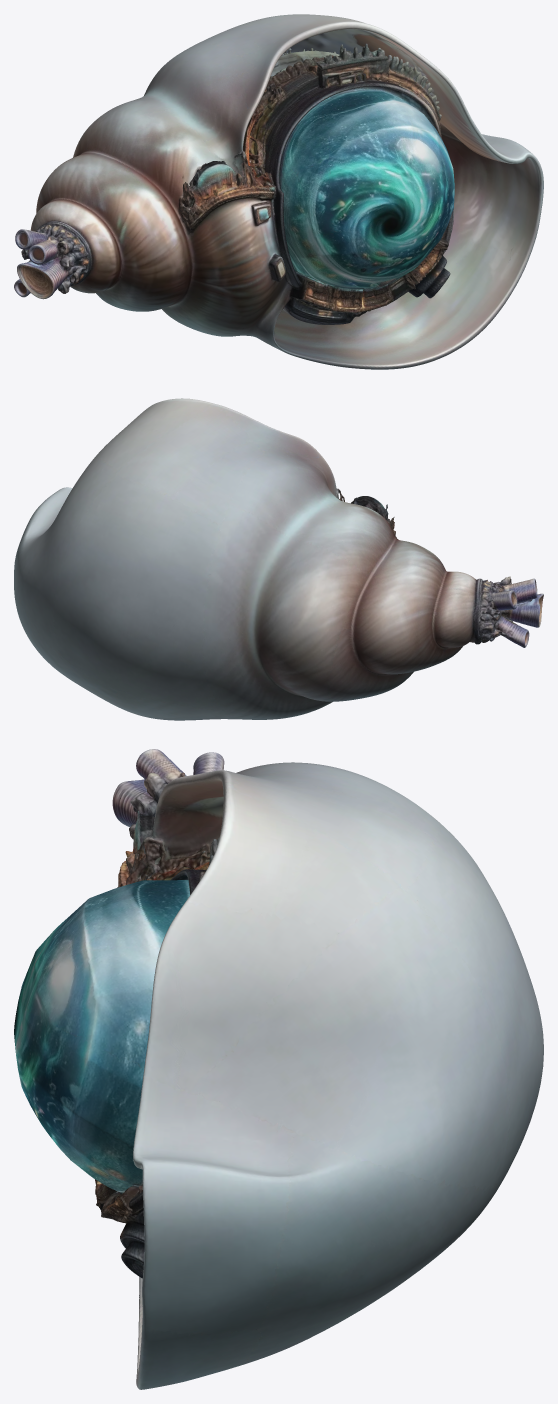
File: Meshy_AI_Cosmic Vortex Gate_1786036249_texture-compressed (1).glb
3 views of the same model, one above another, from view 1: azimuth 30°, elevation 25°; view 2: azimuth 150°, elevation 25°; view 3: azimuth 270°, elevation 25° (orthographic). The views are drawn at different scales.
Visible parts, largest first — view 1: mesh_node; view 2: mesh_node; view 3: mesh_node.
Boxes of the visible parts, x1,y1,x2,y2 form: mesh_node: (14, 14, 543, 369); mesh_node: (14, 398, 543, 720); mesh_node: (14, 749, 543, 1389).
Bounding box in the file's own units: 1.9 × 1.18 × 1.07.
Materials: 1 (1 with a texture image).
